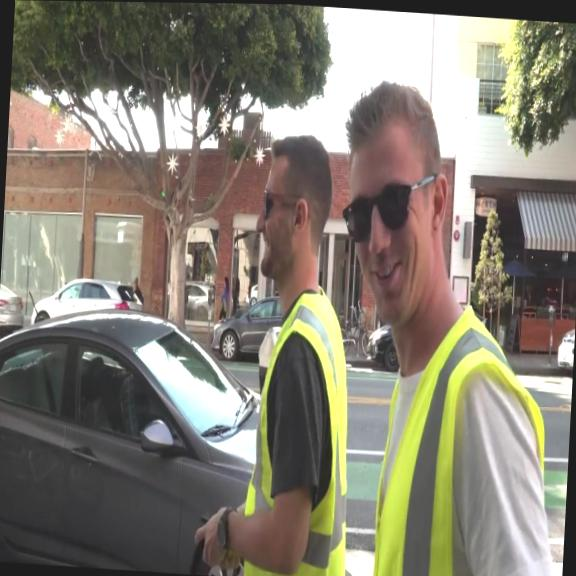safety_vest: (370, 298, 554, 576), (240, 281, 360, 576)
